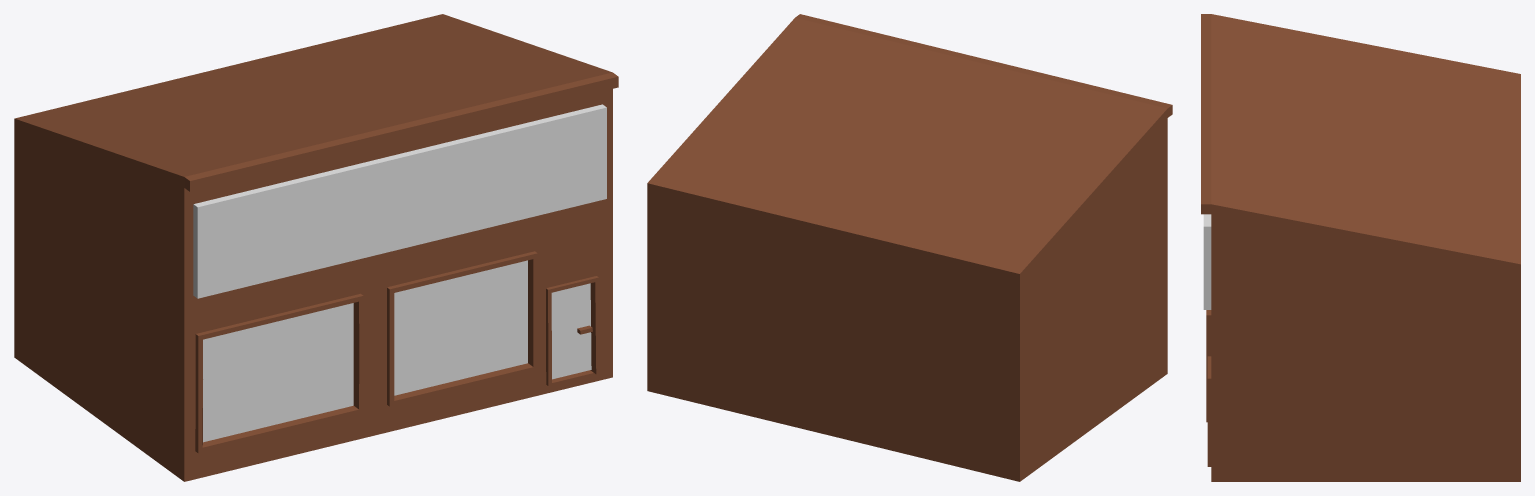
Rendered from pizza tex test.fbx.
The picture shows the model from 3 angles, left to right: view 1: azimuth 30°, elevation 25°; view 2: azimuth 150°, elevation 25°; view 3: azimuth 270°, elevation 25°; orthographic projection. The views are drawn at different scales.
Visible parts, largest first — view 1: Cube.001, Cube, Cube.002; view 2: Cube.001; view 3: Cube.001, Cube.
Part boxes in pixels (<box>): Cube.001: <box>14,14,618,481</box>; Cube: <box>193,104,606,298</box>; Cube.002: <box>203,260,591,442</box>; Cube.001: <box>647,14,1172,481</box>; Cube.001: <box>1201,14,1520,481</box>; Cube: <box>1203,214,1211,309</box>.
Bounding box in the file's own units: 839 × 571 × 596.
